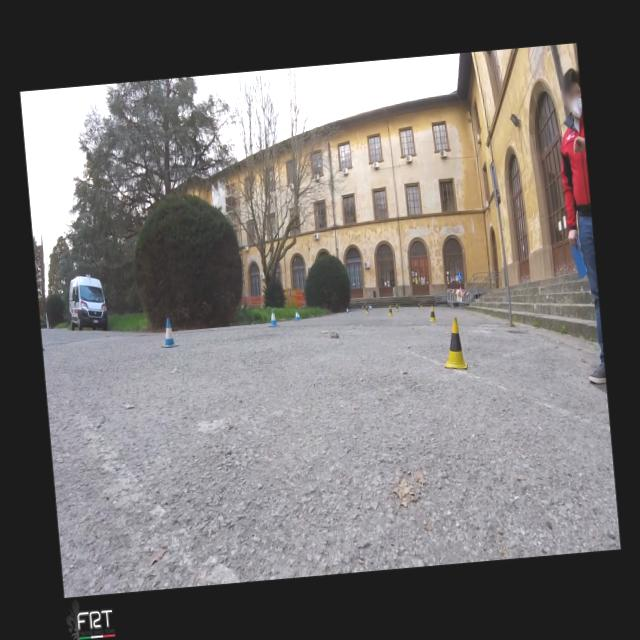blue_cone: (158, 316, 178, 348), (266, 308, 280, 326), (294, 310, 298, 320), (297, 313, 300, 320), (369, 304, 372, 310), (346, 306, 348, 312), (361, 304, 363, 310), (368, 304, 370, 308)
yellow_cone: (440, 316, 467, 370), (428, 305, 438, 322), (386, 304, 394, 316), (364, 305, 368, 313), (394, 303, 398, 311), (417, 302, 420, 310), (419, 302, 422, 306), (398, 302, 400, 308)
